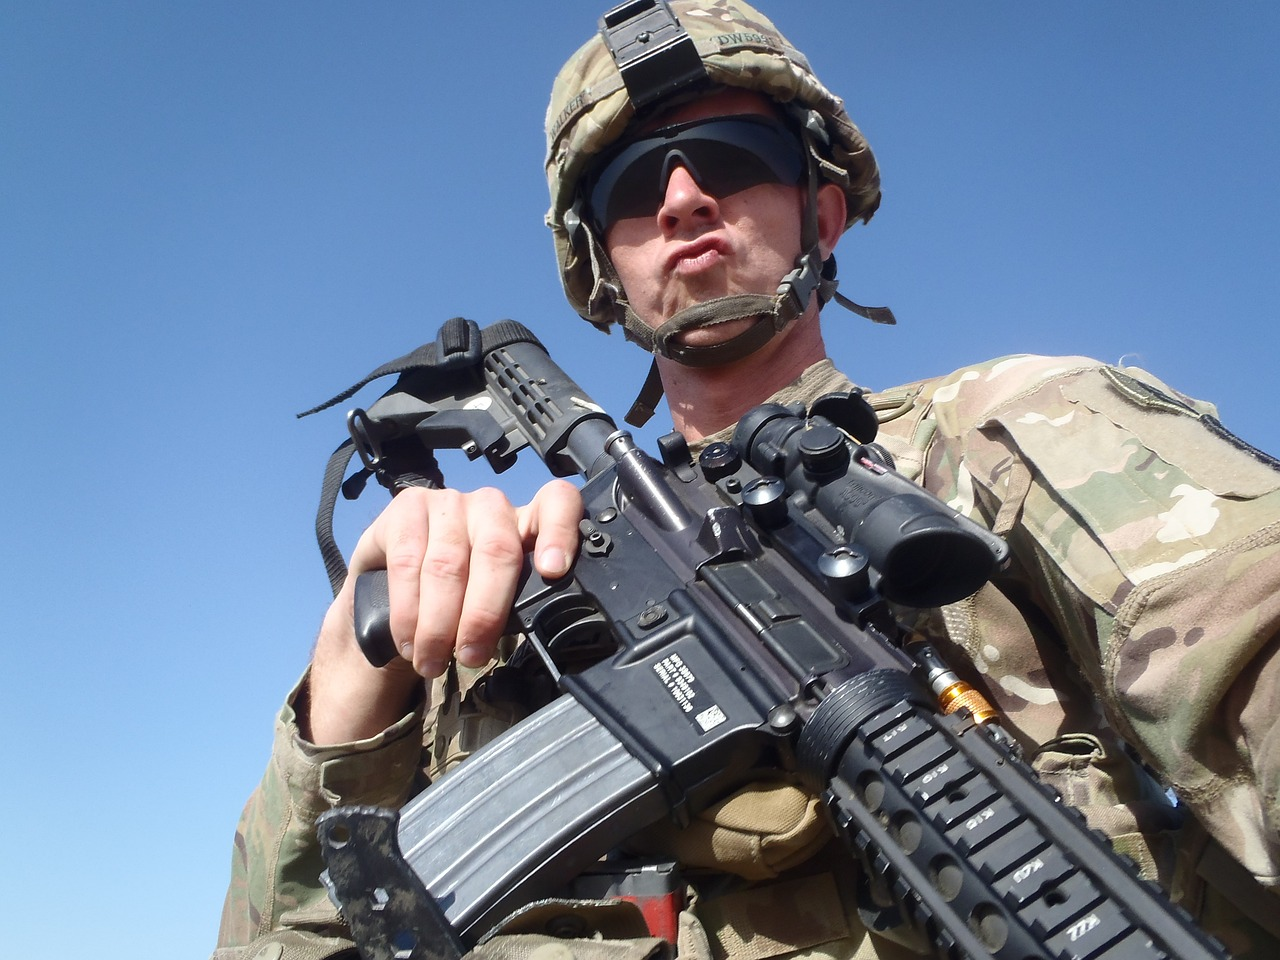gun: (292, 309, 1242, 960)
